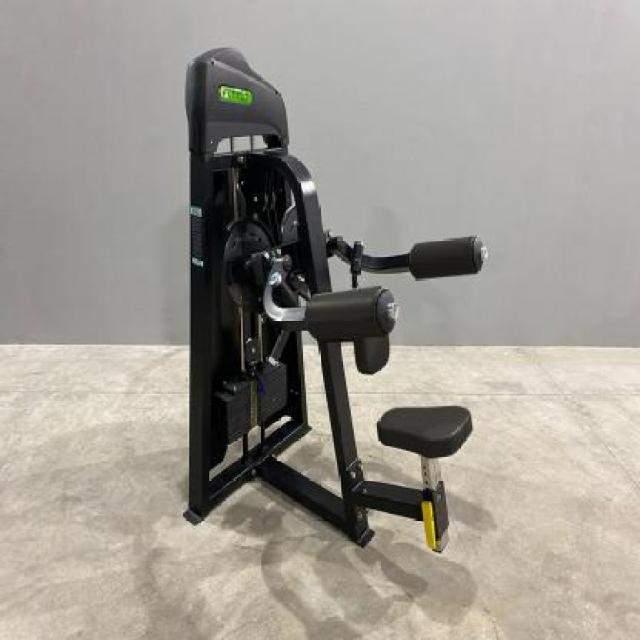lateral raises machine: (185, 44, 488, 558)
